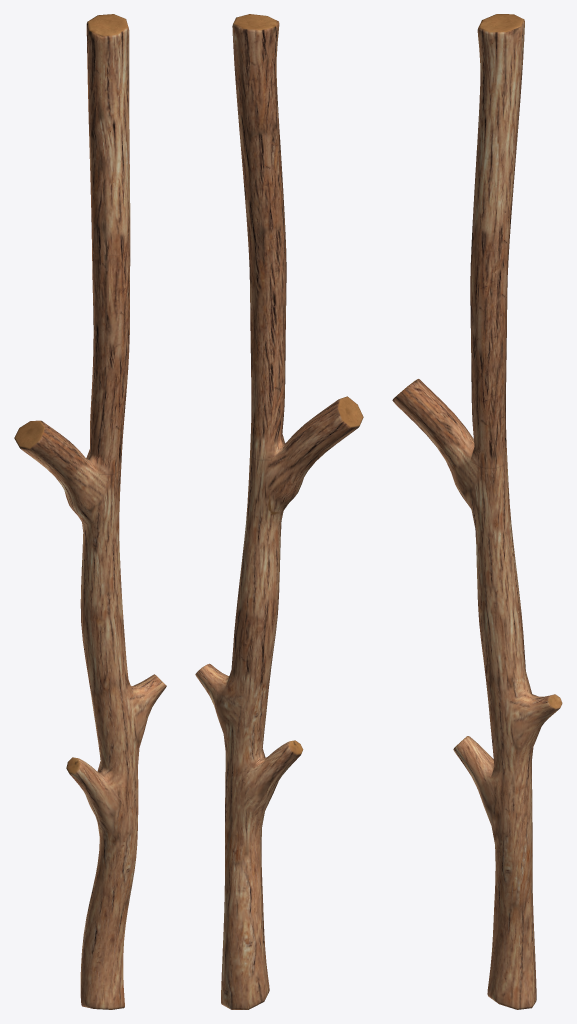
The model's file is item_stick.glb.
The picture shows the model from 3 angles, left to right: view 1: azimuth 30°, elevation 25°; view 2: azimuth 150°, elevation 25°; view 3: azimuth 330°, elevation 25°; orthographic projection.
Visible parts, largest first — view 1: Stick; view 2: Stick; view 3: Stick.
Boxes of the visible parts, <box> form: Stick: <box>14,14,166,1009</box>; Stick: <box>195,14,363,1009</box>; Stick: <box>392,14,562,1009</box>.
Size of the model in its own units: 0.0747 by 0.4569 by 0.032.
1 material, 1 textured.
